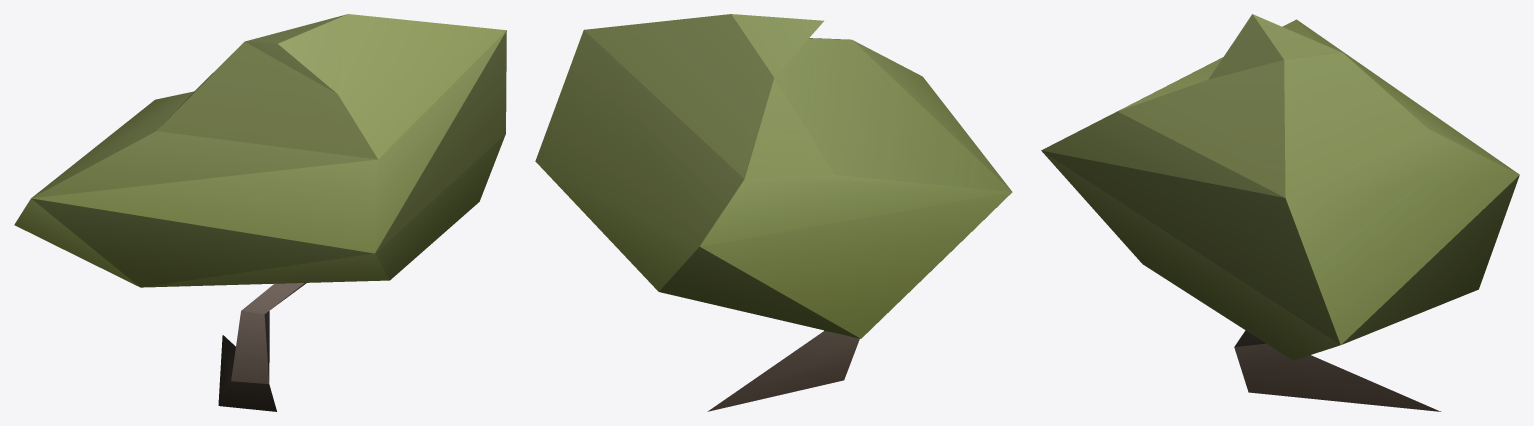
File: tree02_mdl.FBX
3 renders of one model, left to right at view 1: azimuth 30°, elevation 25°; view 2: azimuth 150°, elevation 25°; view 3: azimuth 270°, elevation 25°, orthographic. The views are drawn at different scales.
Visible parts, largest first — view 1: Tree2; view 2: Tree2; view 3: Tree2.
Boxes of the visible parts, x1,y1,x2,y2 form: Tree2: (14, 14, 506, 411); Tree2: (535, 14, 1012, 411); Tree2: (1041, 14, 1519, 411).
Bounding box in the file's own units: 3.94 × 2.78 × 3.18.
Materials: 1 (1 with a texture image).
